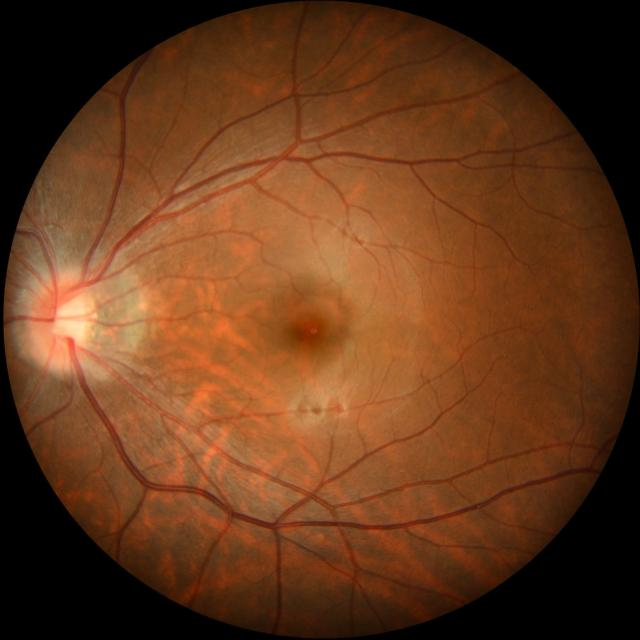OC: (52, 300, 86, 340)
OD: (30, 276, 93, 369)
